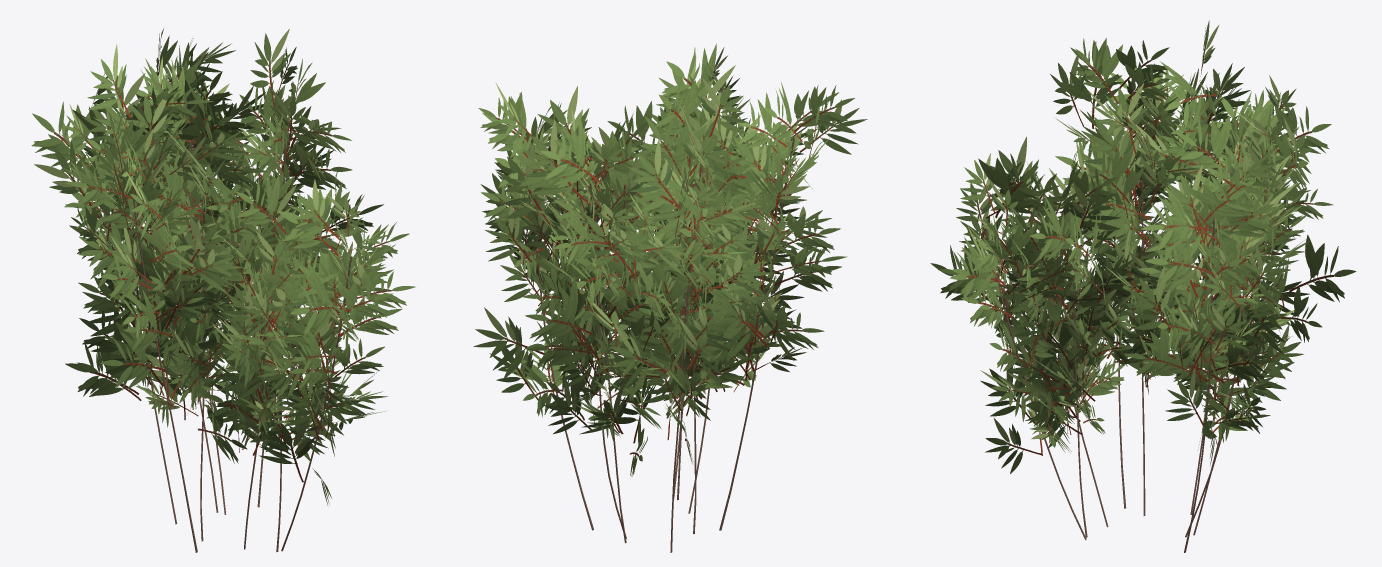
File: bush_06.glb
3 views of the same model, side by side, from view 1: azimuth 30°, elevation 25°; view 2: azimuth 150°, elevation 25°; view 3: azimuth 270°, elevation 25° (orthographic). The views are drawn at different scales.
Parts seen in each view (by area): view 1: mountain_willow_LOD0; view 2: mountain_willow_LOD0; view 3: mountain_willow_LOD0.
Boxes of the visible parts, x1,y1,x2,y2 form: mountain_willow_LOD0: (31,28,415,552); mountain_willow_LOD0: (473,43,867,552); mountain_willow_LOD0: (930,20,1356,552).
Bounding box in the file's own units: 0.965 × 1.29 × 1.1.
Materials: 2 (2 with a texture image).
